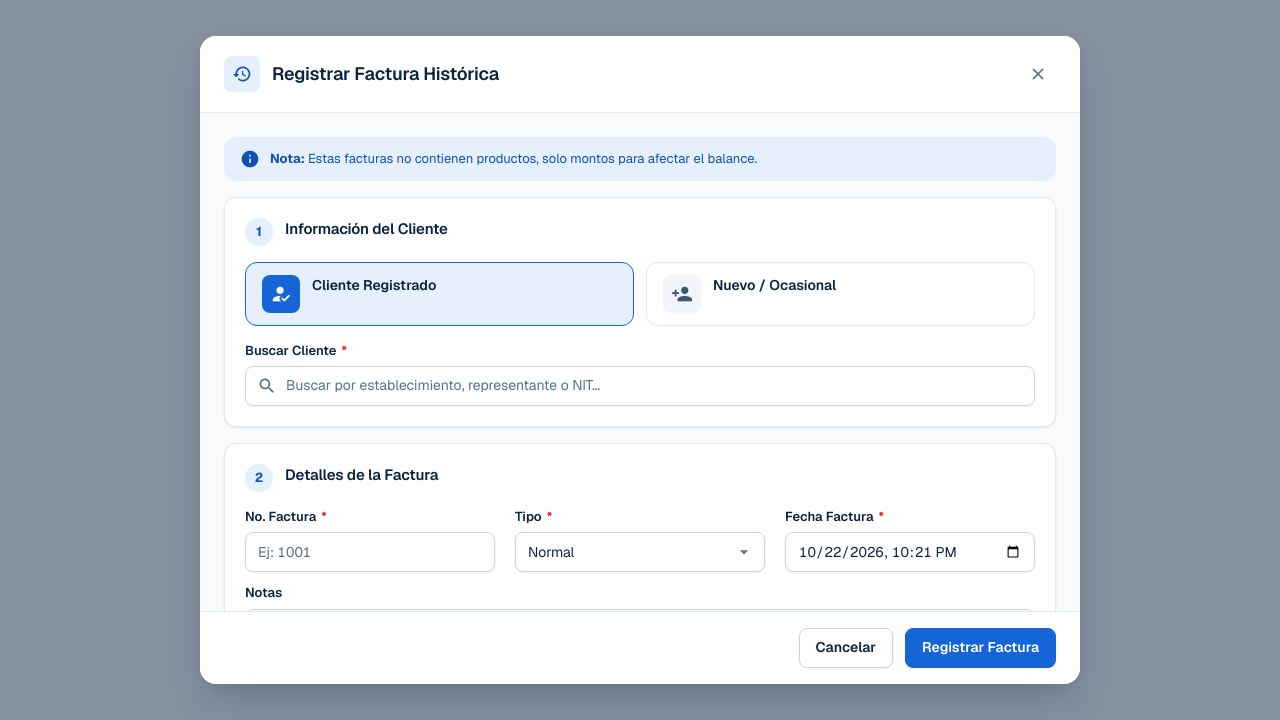
it: factura nueva: el selector no ofrece clientes eliminados
Focus the field labelled "Buscar Cliente *": [640, 386] box [245,366,1035,406]
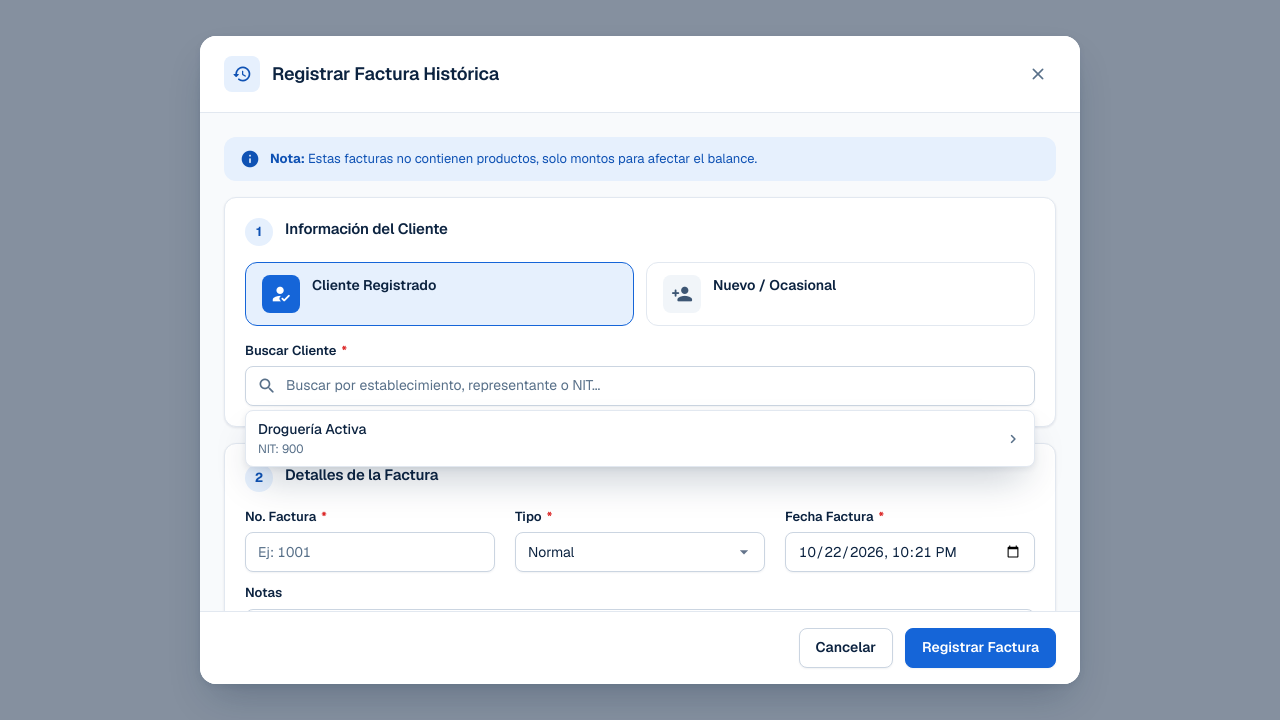
Now the text "Droguería Activa" is shown, box [258,419,366,440]
